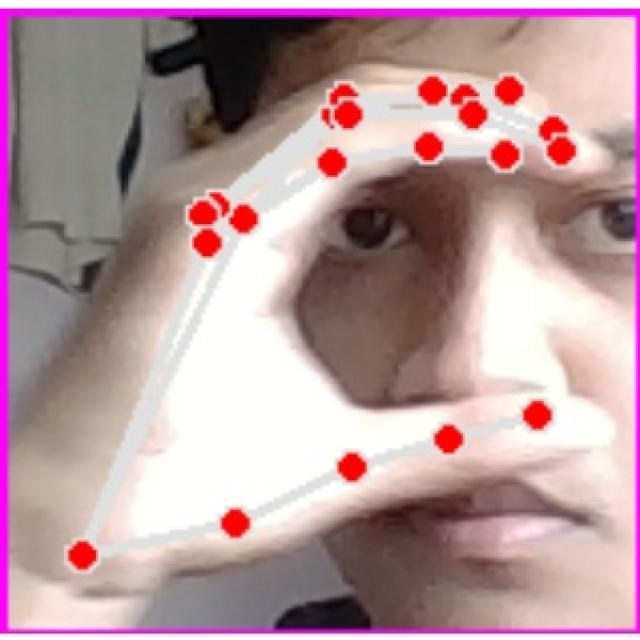C: (25, 48, 621, 606)
